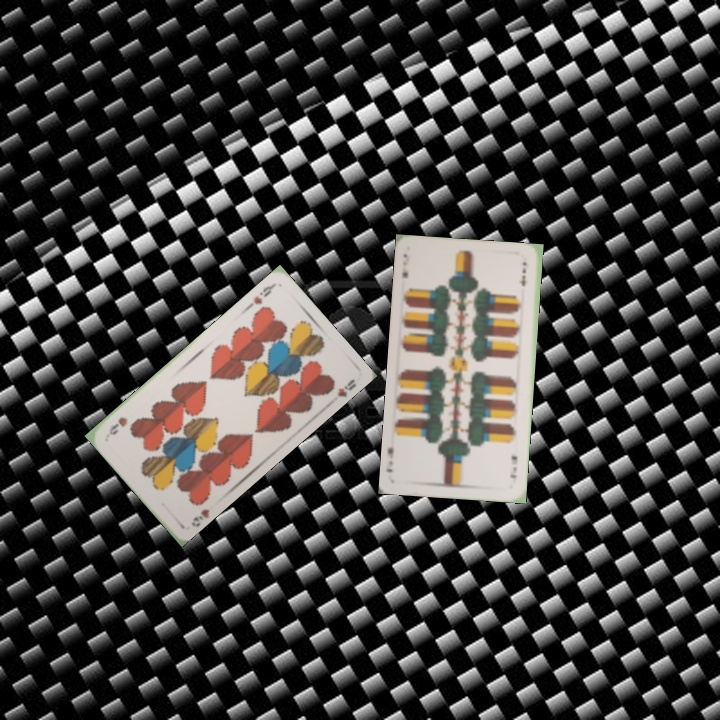E7: (398, 249, 412, 281), (506, 452, 520, 481)
H9: (249, 280, 277, 307), (187, 505, 212, 529)
